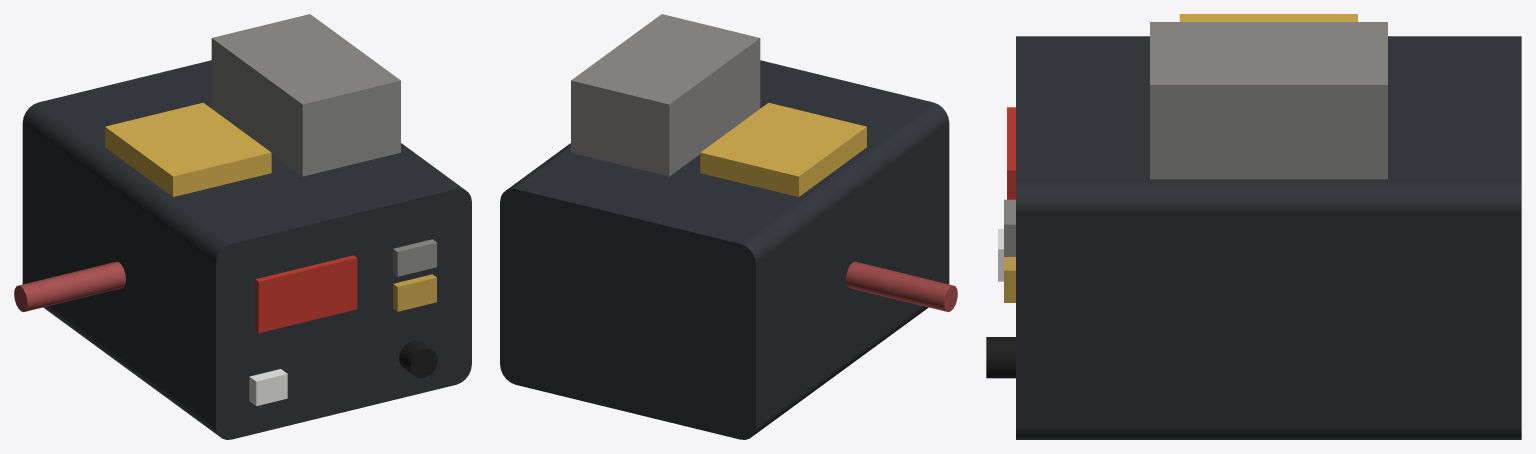
File: soldering_station.glb
The picture shows the model from 3 angles, left to right: view 1: azimuth 30°, elevation 25°; view 2: azimuth 150°, elevation 25°; view 3: azimuth 270°, elevation 25°; orthographic projection. The views are drawn at different scales.
Parts seen in each view (by area): view 1: body, iron_stand, tip_cleaner, temperature_display, soldering_iron, up_button, enter_button, power_switch, iron_connector; view 2: body, iron_stand, tip_cleaner, soldering_iron; view 3: body, iron_stand, tip_cleaner, iron_connector, temperature_display, up_button, enter_button.
Part boxes in pixels (left/top/right/bottom): body: left=22, top=60, right=471, bottom=439; iron_stand: left=211, top=14, right=400, bottom=176; tip_cleaner: left=105, top=102, right=271, bottom=196; temperature_display: left=255, top=255, right=357, bottom=332; soldering_iron: left=14, top=261, right=125, bottom=311; up_button: left=393, top=239, right=436, bottom=276; enter_button: left=393, top=274, right=436, bottom=311; power_switch: left=249, top=369, right=287, bottom=406; iron_connector: left=399, top=340, right=437, bottom=378; body: left=500, top=60, right=949, bottom=439; iron_stand: left=571, top=14, right=760, bottom=176; tip_cleaner: left=700, top=102, right=866, bottom=196; soldering_iron: left=846, top=261, right=957, bottom=311; body: left=1016, top=36, right=1521, bottom=439; iron_stand: left=1150, top=22, right=1387, bottom=179; tip_cleaner: left=1179, top=14, right=1357, bottom=21; iron_connector: left=986, top=337, right=1015, bottom=378; temperature_display: left=1007, top=107, right=1015, bottom=199; up_button: left=1004, top=199, right=1015, bottom=256; enter_button: left=1004, top=257, right=1015, bottom=302.
Size of the model in its own units: 0.18 by 0.13 by 0.18.
